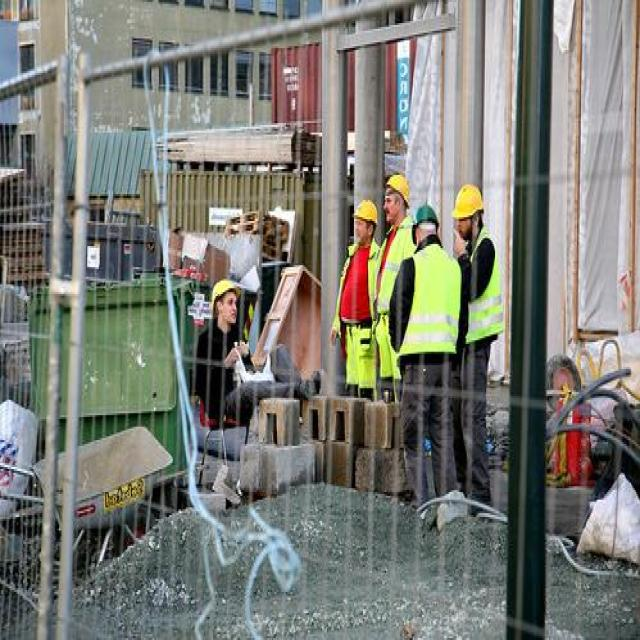Reflective-Jacket: (395, 248, 464, 367), (331, 238, 382, 390), (460, 230, 508, 350)
Safety-Helmet: (450, 177, 489, 227), (408, 196, 445, 238), (206, 273, 242, 307), (382, 169, 413, 208), (352, 194, 379, 229)
